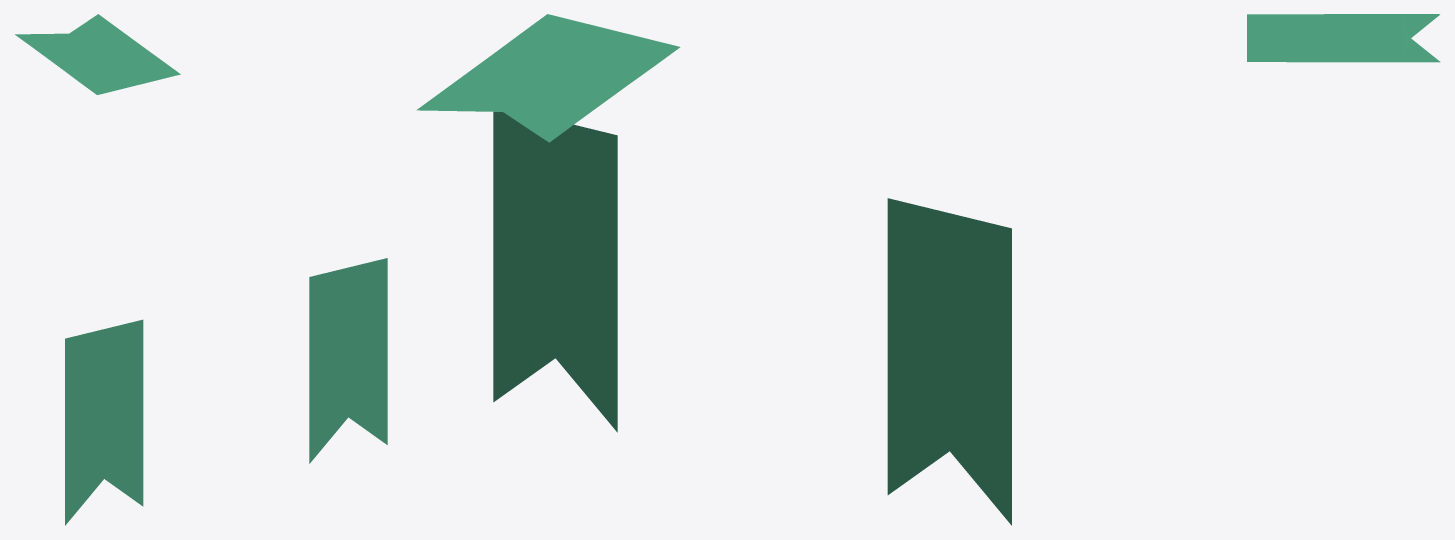
Rendered from tower-lod1.glb.
The picture shows the model from 3 angles, left to right: view 1: azimuth 30°, elevation 25°; view 2: azimuth 150°, elevation 25°; view 3: azimuth 270°, elevation 25°; orthographic projection. The views are drawn at different scales.
Visible parts, largest first — view 1: BannerTeam; view 2: BannerTeam; view 3: BannerTeam.
Boxes of the visible parts, bbox=[...] form: BannerTeam: bbox=[15, 14, 387, 525]; BannerTeam: bbox=[416, 14, 1011, 525]; BannerTeam: bbox=[1247, 14, 1440, 62].
Size of what is drawn, in the model's own units: 2.9 by 2.9 by 2.65.
